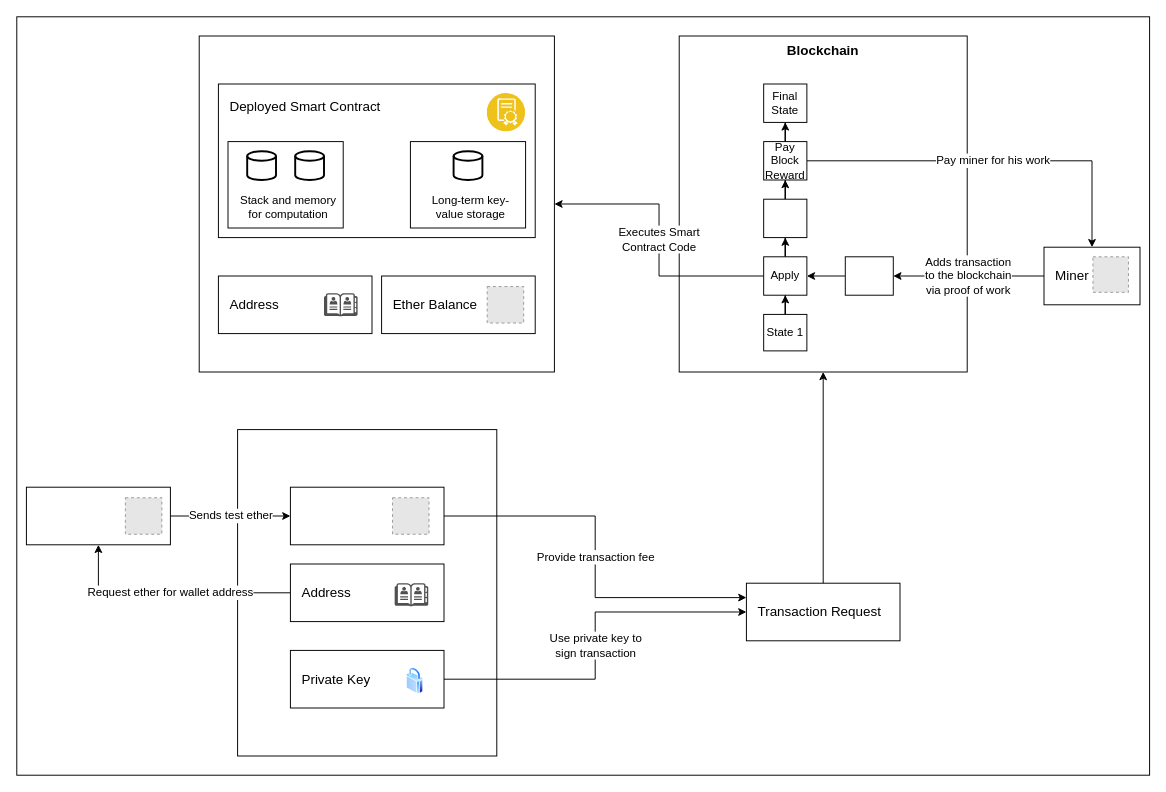
This 1166x792 diagram has some shape labels left out. Grey dashed boxes stand in for pictures. The shapes that lost their labels are listed below. From the top down, each one's box as (x1, y1, x2, y2) in pixels, then its label:
(198, 35, 554, 372): Contract Account
(763, 198, 807, 238): State 2
(844, 256, 893, 295): Tx1
(25, 486, 170, 545): Goerli Faucet
(289, 486, 444, 545): Test Ether
(237, 429, 497, 756): User Account (Wallet)
